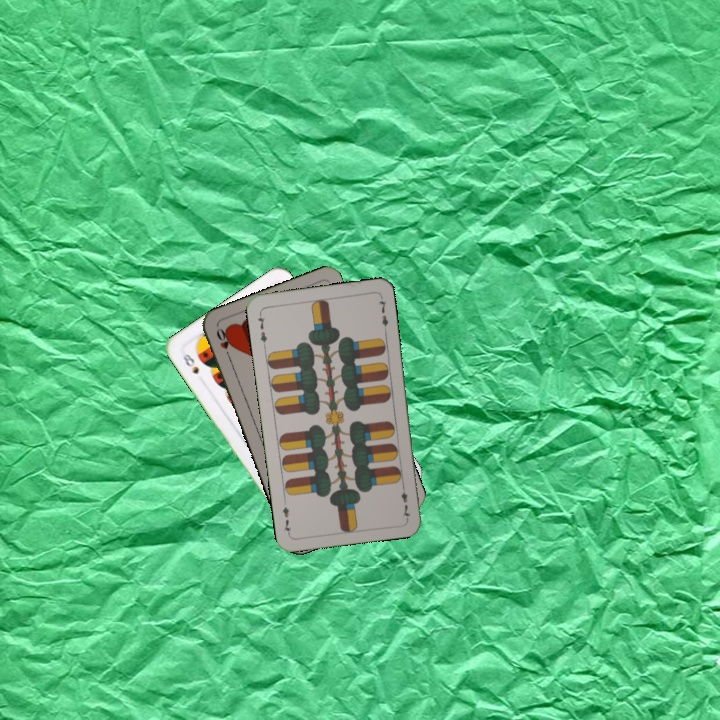E7: (397, 480, 413, 521), (253, 309, 269, 349)
HO: (212, 324, 234, 363)
S8: (177, 348, 201, 377)
